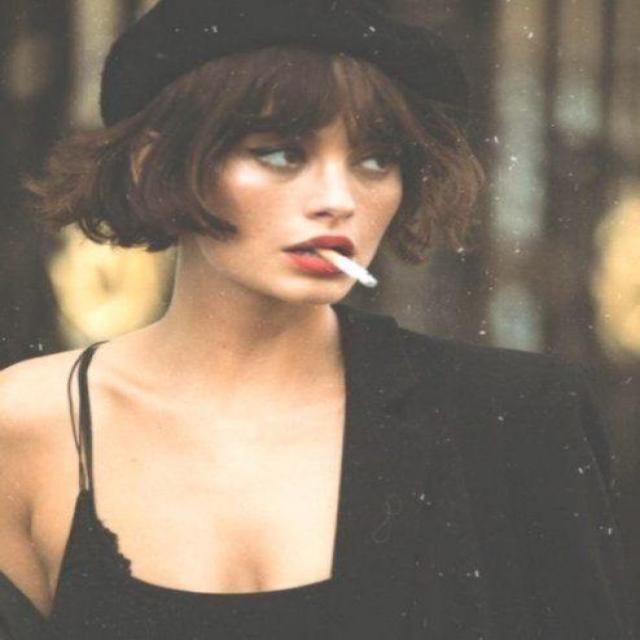cigarette: (285, 228, 400, 303)
